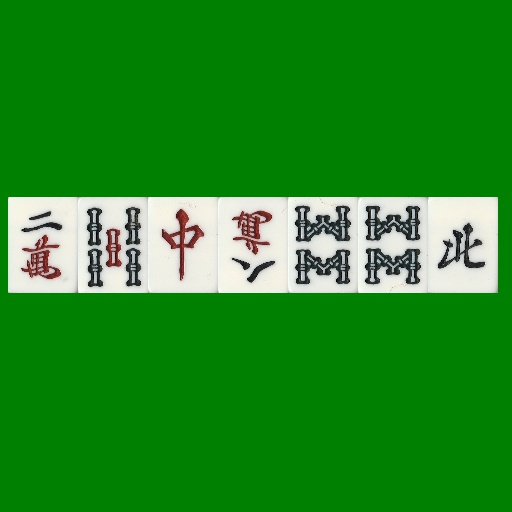2m: (8, 197, 78, 293)
5s: (78, 197, 148, 293)
8m: (218, 197, 288, 293)
8s: (288, 197, 358, 293), (358, 197, 428, 293)
north: (428, 197, 498, 293)
tyun: (148, 197, 218, 293)
